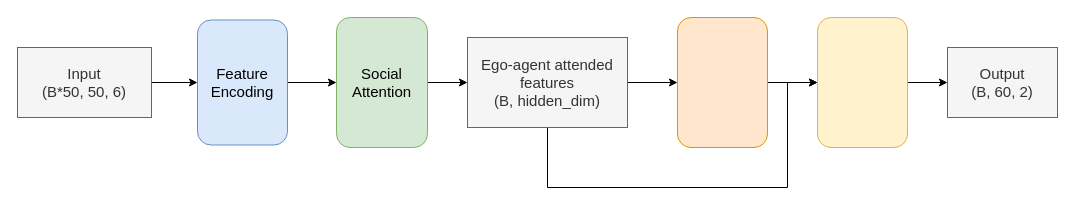
Image size: 1075x213. Some labels were removed from this diagram. The shapes that lost their labels are listed below. From the top down, each one's centre as x and y in pixels, then its label:
(x=722, y=82): Endpoint Prediction
(x=862, y=82): Trajectory Prediction
